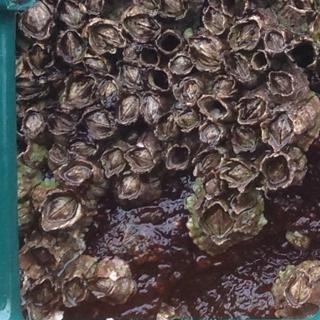Barnacle: (42, 192, 80, 226), (203, 203, 235, 243), (94, 273, 130, 304), (87, 19, 124, 49), (188, 37, 220, 71), (25, 281, 59, 311), (22, 2, 51, 35), (267, 110, 293, 146), (124, 14, 158, 41), (232, 19, 259, 51), (65, 77, 94, 106), (263, 155, 291, 185), (227, 161, 255, 189), (59, 31, 85, 61), (97, 77, 121, 108), (56, 0, 85, 25), (118, 61, 145, 87), (287, 275, 311, 304), (240, 95, 266, 121), (62, 162, 92, 184), (28, 44, 51, 72), (64, 275, 86, 304), (119, 92, 141, 121), (87, 109, 112, 134), (227, 53, 251, 79), (200, 150, 225, 174), (143, 92, 165, 118), (120, 172, 141, 198), (67, 137, 97, 155), (127, 148, 155, 167), (271, 71, 294, 94), (31, 244, 53, 267), (168, 53, 193, 73), (206, 5, 225, 31), (105, 145, 124, 170), (212, 77, 234, 98), (266, 30, 287, 52), (181, 81, 199, 106), (201, 122, 221, 144), (84, 56, 108, 74), (203, 177, 223, 198), (178, 108, 199, 128), (158, 112, 173, 138), (26, 112, 43, 134), (160, 0, 182, 17), (51, 145, 66, 161), (87, 0, 104, 14), (137, 0, 157, 10)
